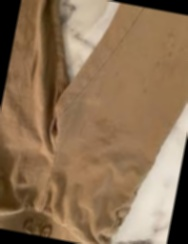oil: (80, 107, 119, 152), (135, 84, 152, 98)
